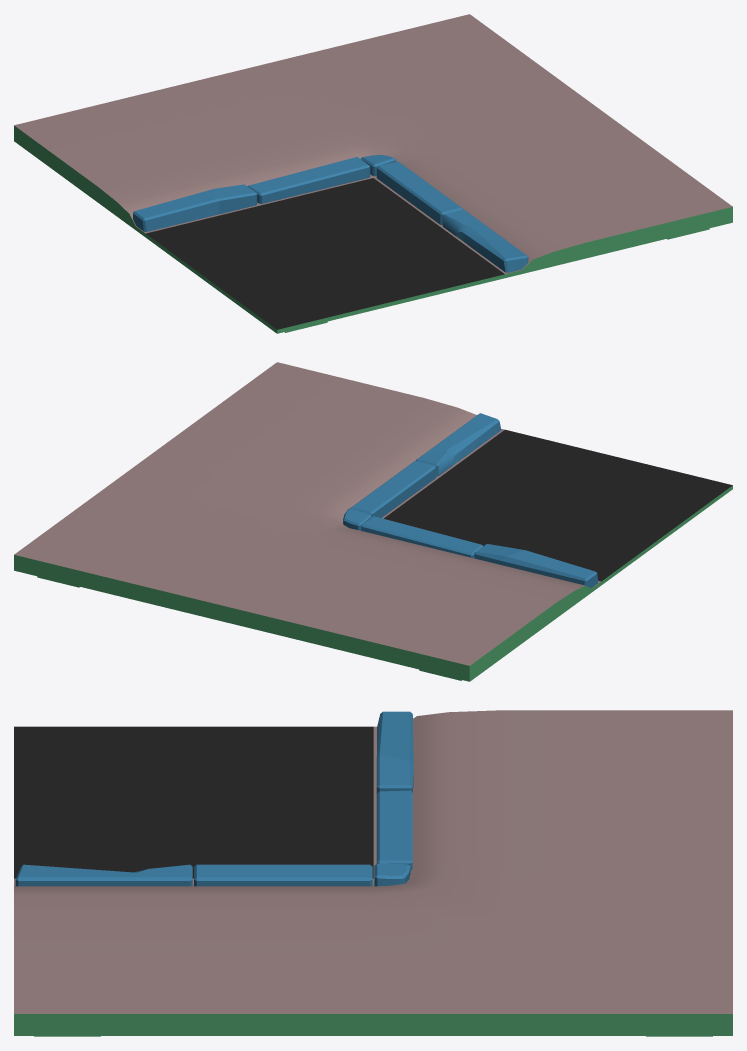
Rendered from sidewalk corn in lod0.FBX.
The picture shows the model from 3 angles, top to bottom: view 1: azimuth 30°, elevation 25°; view 2: azimuth 150°, elevation 25°; view 3: azimuth 270°, elevation 25°; orthographic projection. The views are drawn at different scales.
Parts seen in each view (by area): view 1: Plane019; view 2: Plane019; view 3: Plane019.
Boxes of the visible parts, <box> form: Plane019: <box>14,14,732,333</box>; Plane019: <box>14,362,732,681</box>; Plane019: <box>14,710,732,1036</box>.
Size of the model in its own units: 3 by 0.2346 by 3.
